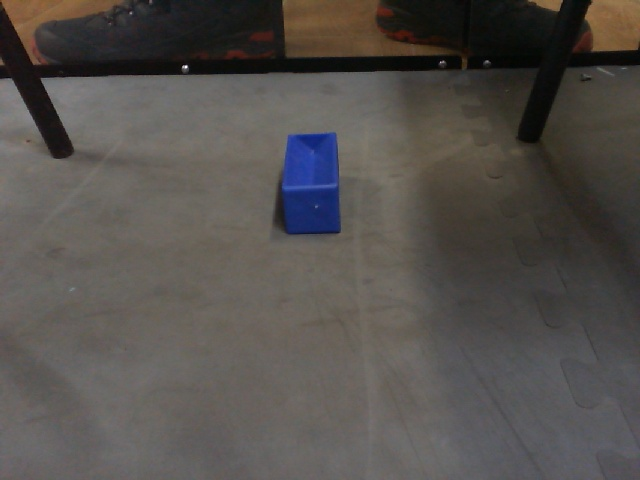BlueSample: (278, 130, 344, 237)
